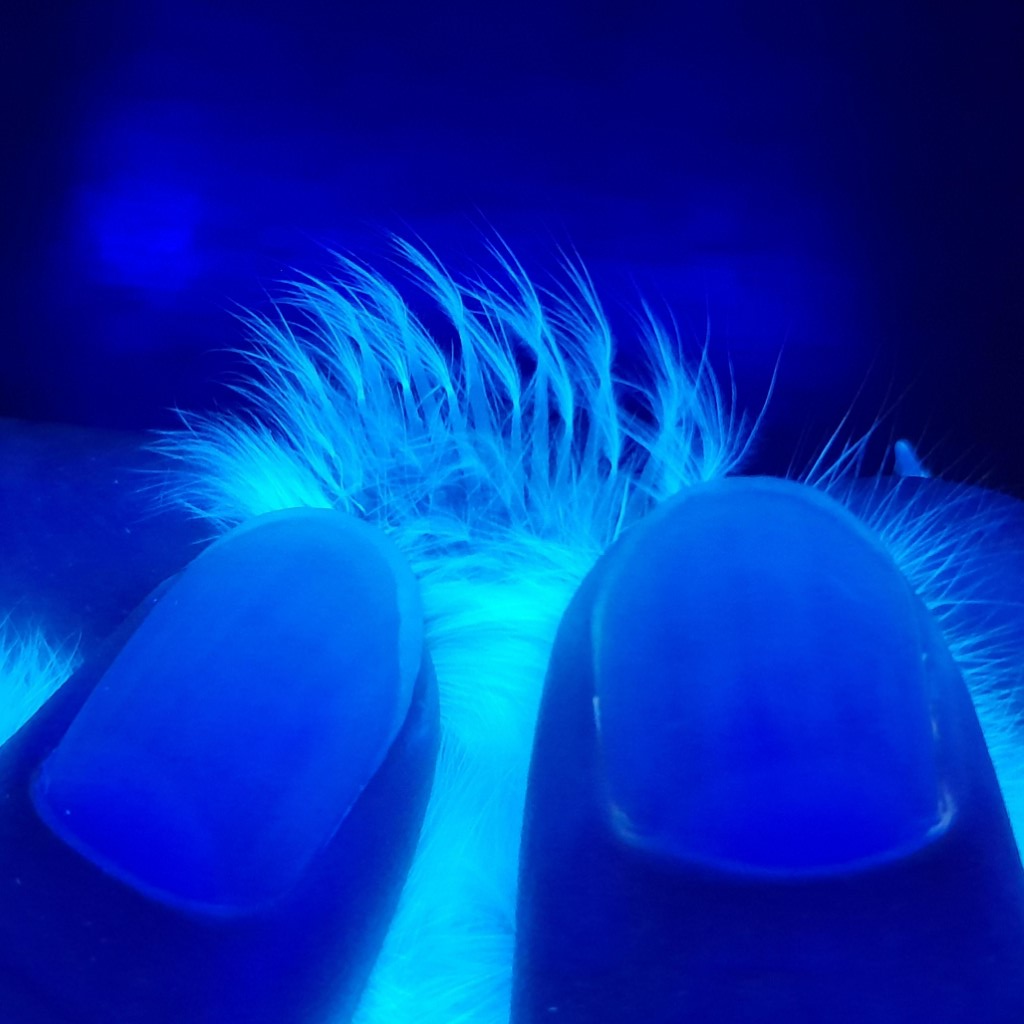female: (344, 312, 676, 597)
